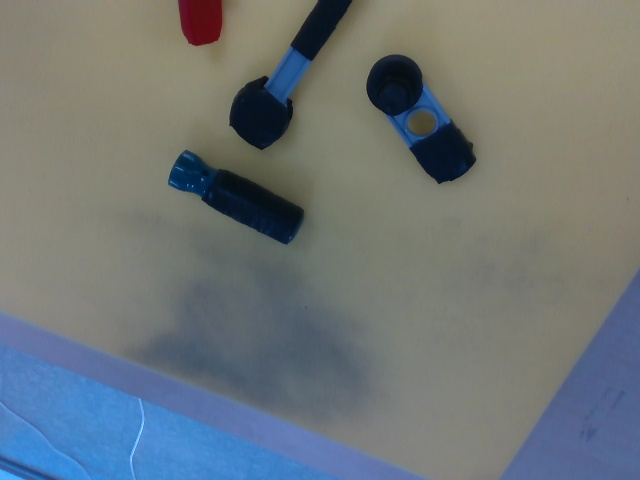part_1_good: (173, 1, 227, 48)
